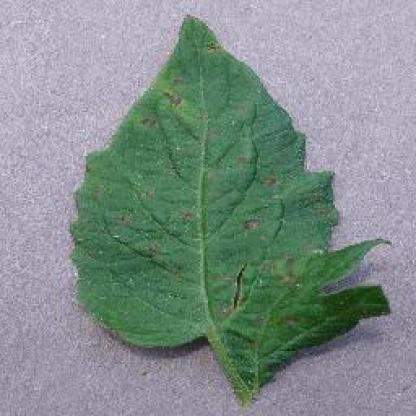bad leaf: (62, 21, 364, 392)
